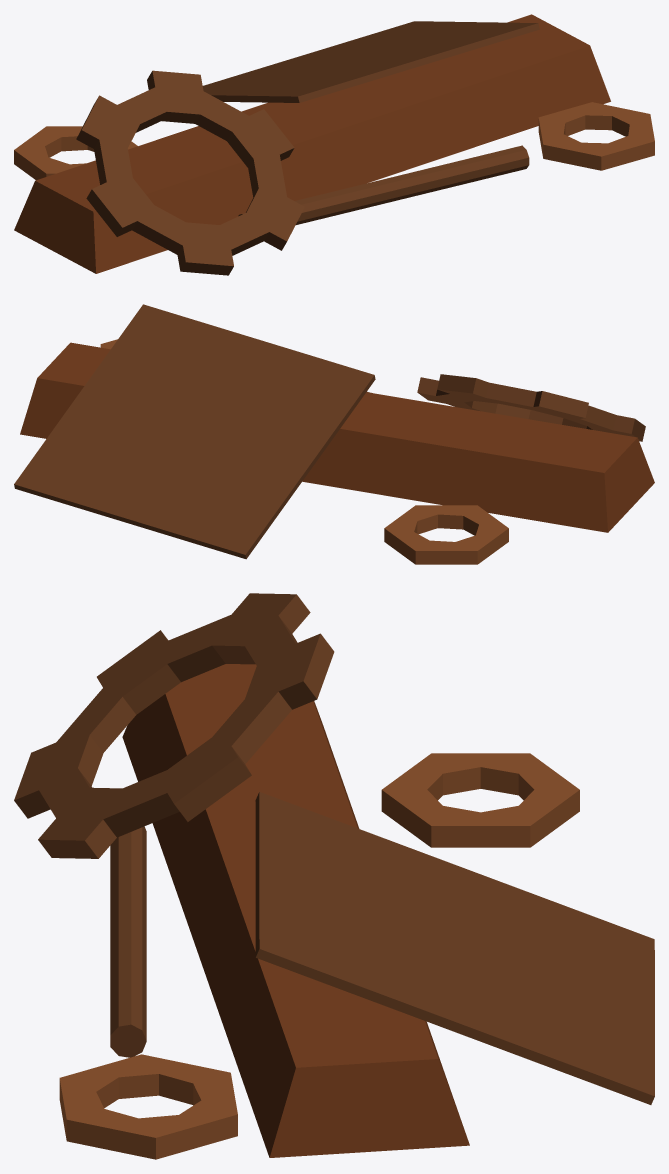
File: ScrapMetal.fbx
3 views of the same model, one above another, from view 1: azimuth 30°, elevation 25°; view 2: azimuth 150°, elevation 25°; view 3: azimuth 270°, elevation 25° (orthographic). The views are drawn at different scales.
Visible parts, largest first — view 1: MetalScrap; view 2: MetalScrap; view 3: MetalScrap.
Part boxes in pixels (bbox=[...]): MetalScrap: bbox=[14, 14, 654, 275]; MetalScrap: bbox=[14, 304, 654, 564]; MetalScrap: bbox=[14, 593, 654, 1159].
Size of the model in its own units: 0.9248 by 0.2148 by 0.5758.
